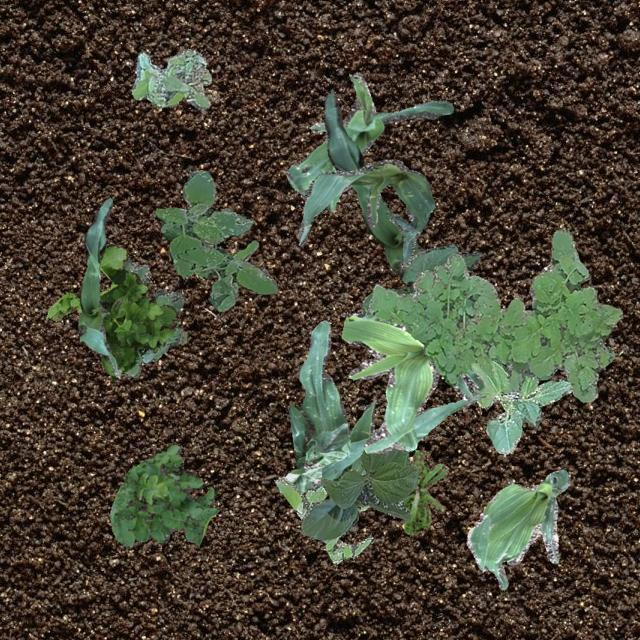crop: (288, 319, 486, 486), (286, 70, 452, 210), (341, 312, 484, 452), (324, 92, 424, 284), (297, 158, 433, 260), (300, 436, 418, 540), (466, 468, 568, 588), (468, 358, 570, 454), (360, 244, 480, 314), (76, 196, 120, 376), (284, 422, 349, 492)
weed: (366, 226, 622, 402), (46, 243, 178, 379), (154, 168, 276, 310), (109, 443, 218, 548), (274, 476, 372, 564), (122, 256, 186, 376), (130, 48, 210, 108), (402, 448, 446, 534)
